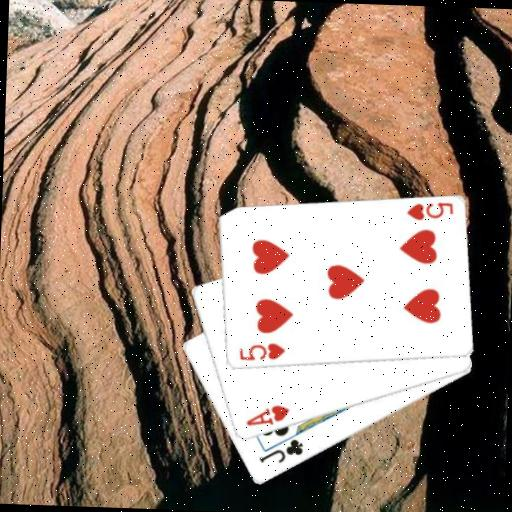5H: (402, 198, 454, 223), (235, 339, 286, 364)
AH: (243, 401, 291, 429)
JC: (255, 434, 305, 466)
